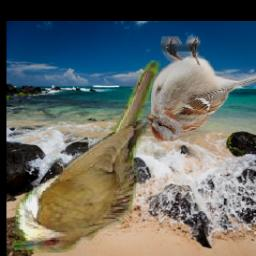Cuckoo: (12, 60, 162, 253)
Sparrow: (147, 36, 256, 141)
